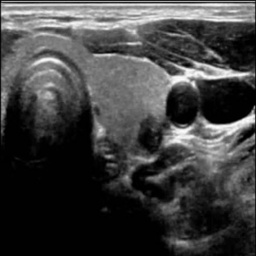mass: (136, 116, 162, 153)
